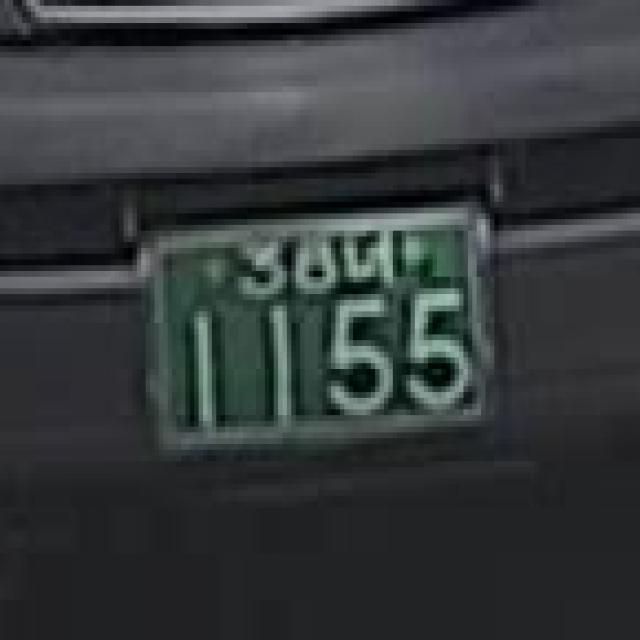illegal_plate: (136, 193, 504, 478)
